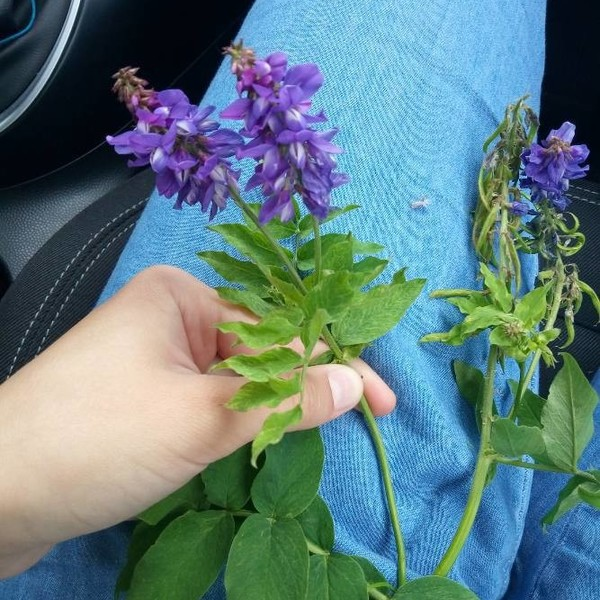obstacle: (88, 64, 412, 391), (447, 93, 583, 530), (160, 445, 364, 591)
